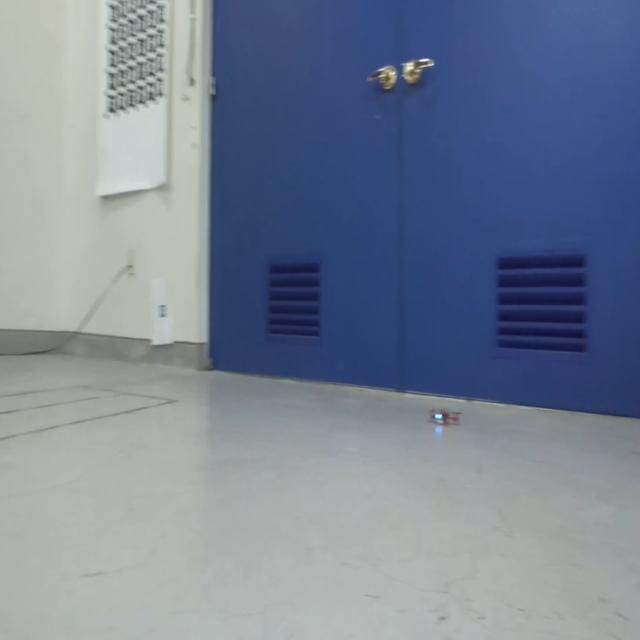crazyflie: (426, 399, 463, 431)
